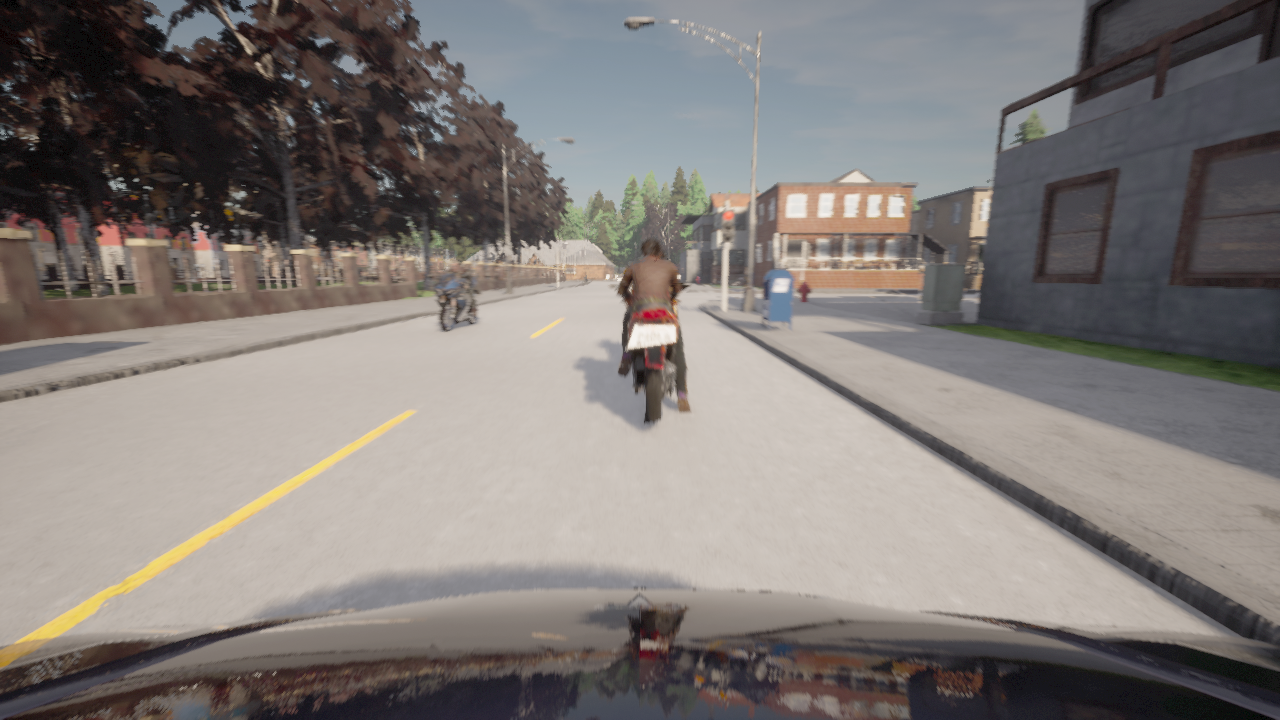cyclist: (0, 588, 1279, 719), (608, 285, 690, 423), (427, 272, 482, 332), (631, 282, 686, 315)
pedestrian: (743, 267, 747, 290)
